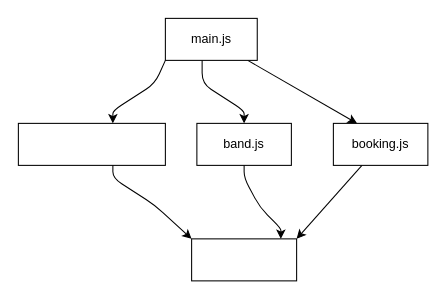
Some shapes in this 446 by 299 pixel diagram are drawn without their labels. The shapes that lost their labels are listed below. From the top down, each one's centre as x and y in pixels, then its label:
At [91,143]: "venue.js".
At [244,259]: "database.js".
